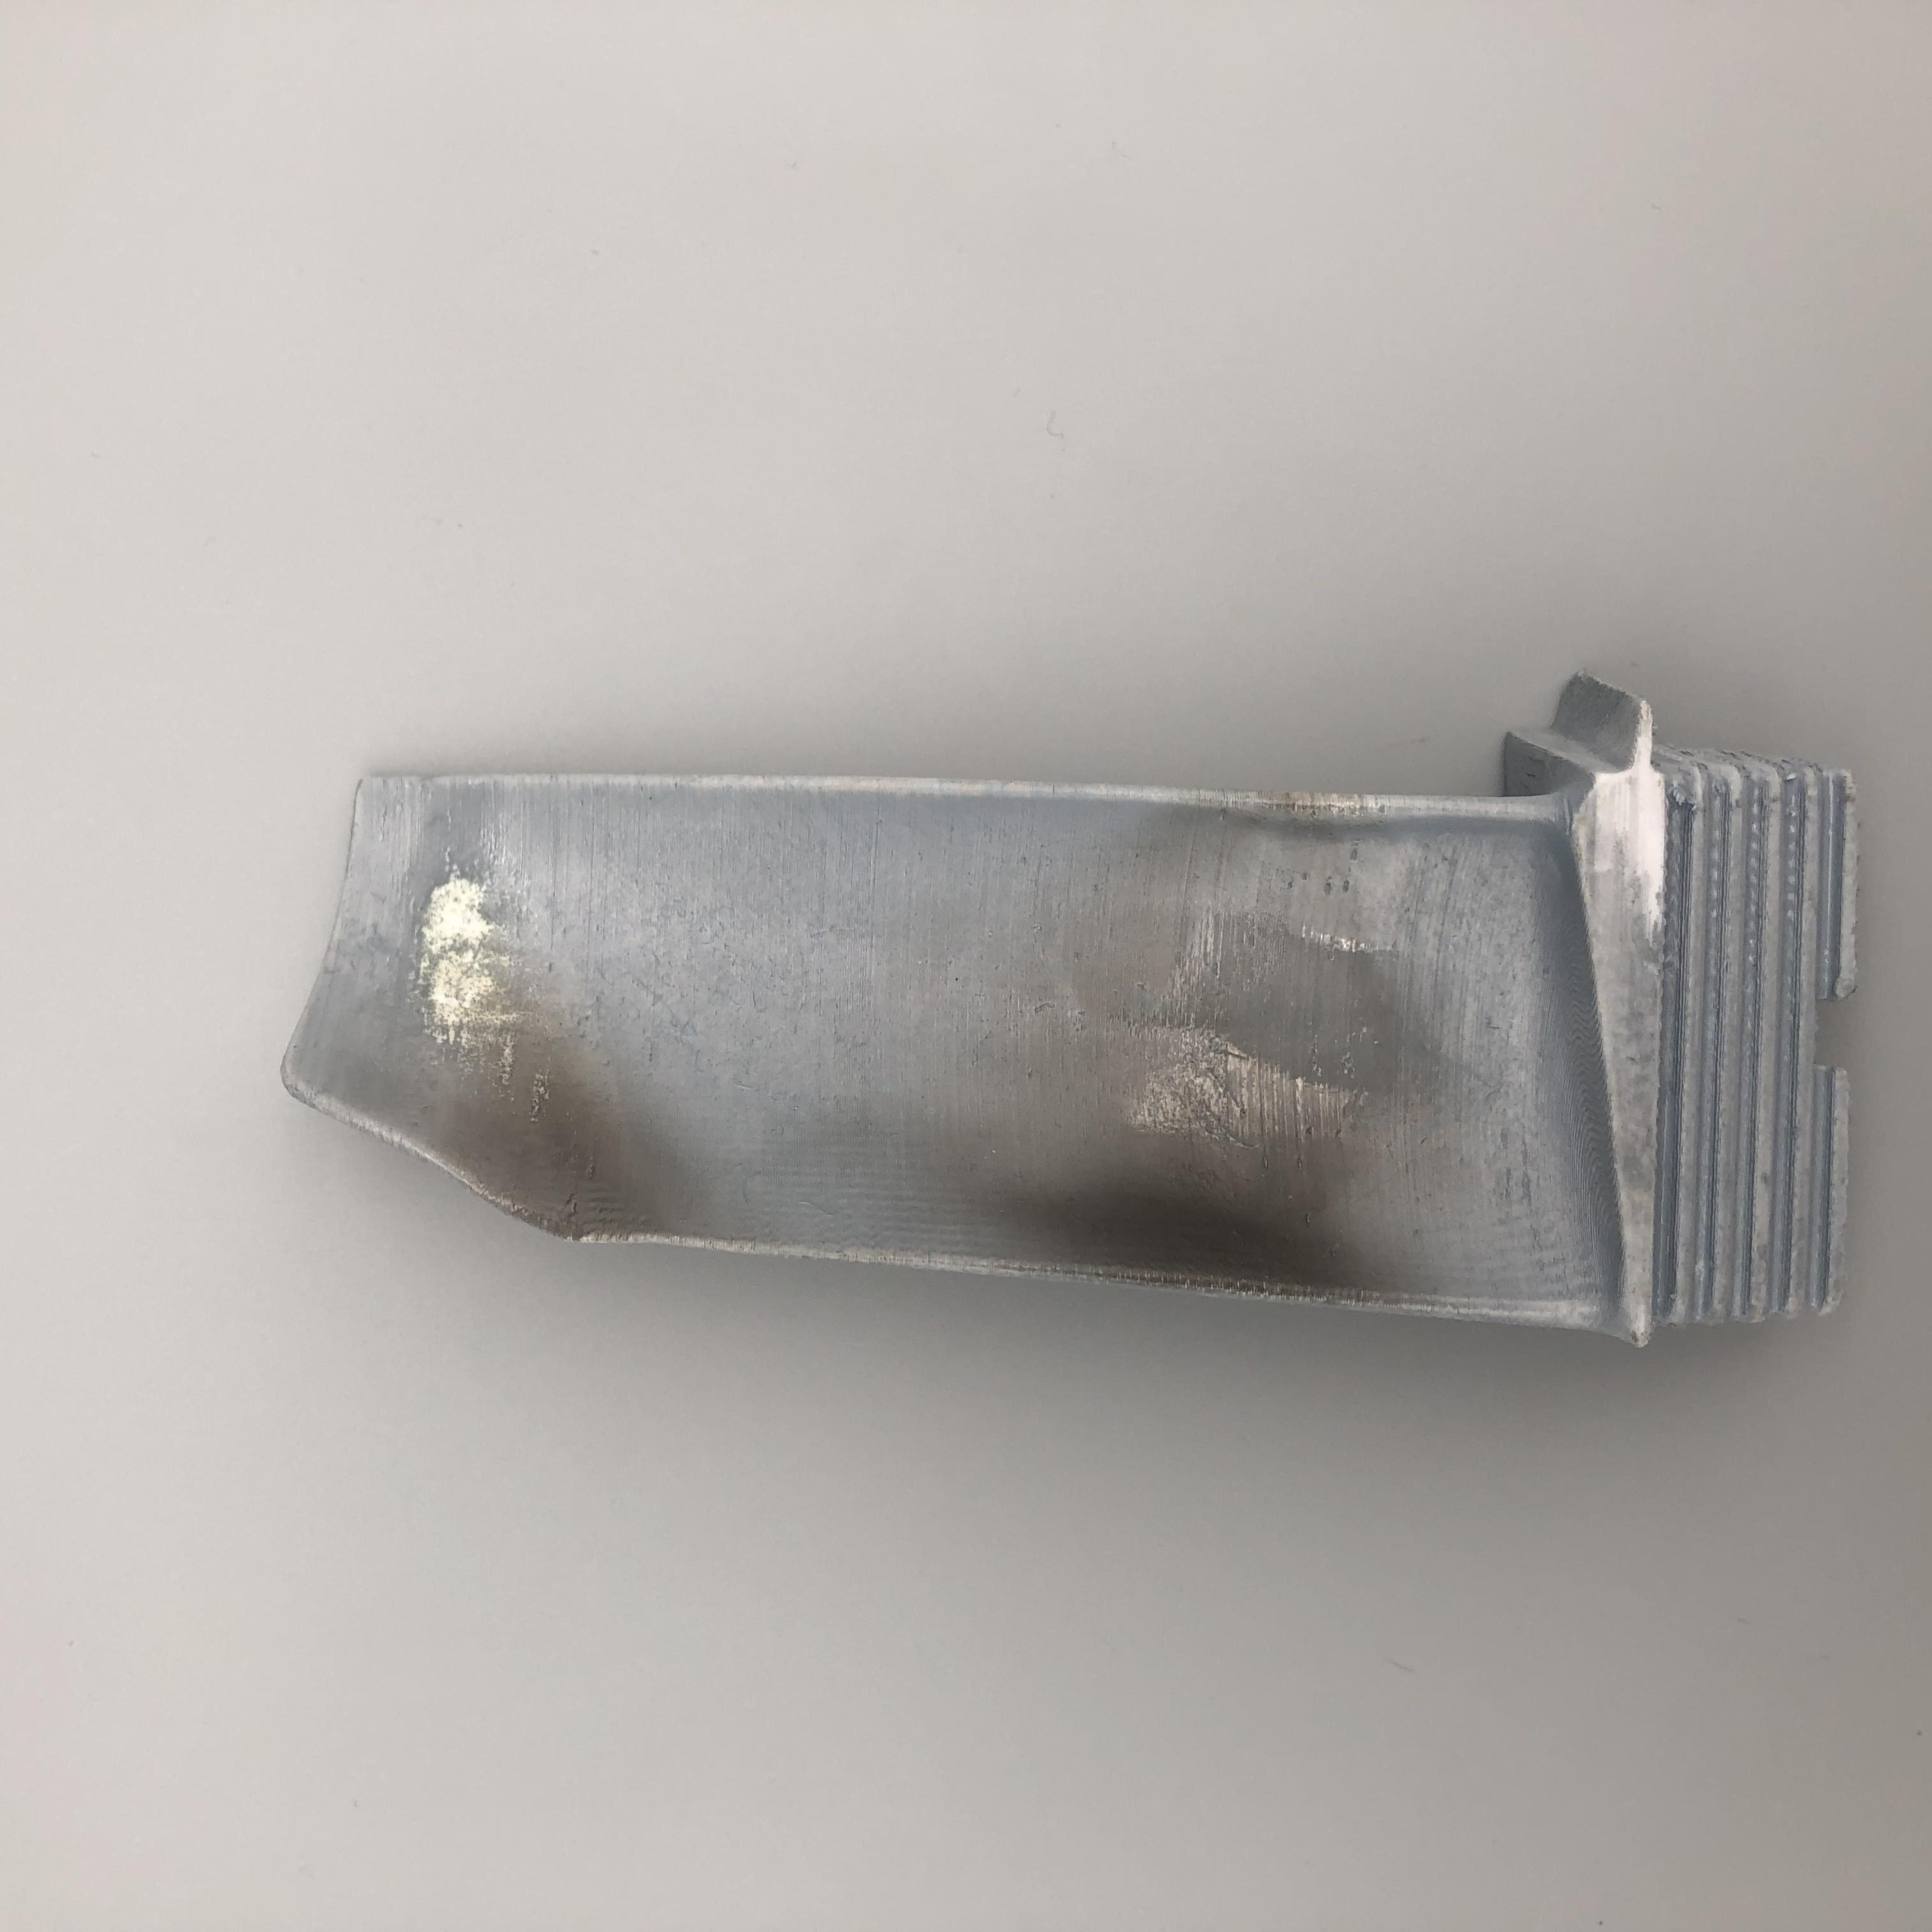ablation: (1079, 955, 1398, 1295), (437, 964, 649, 1221)
